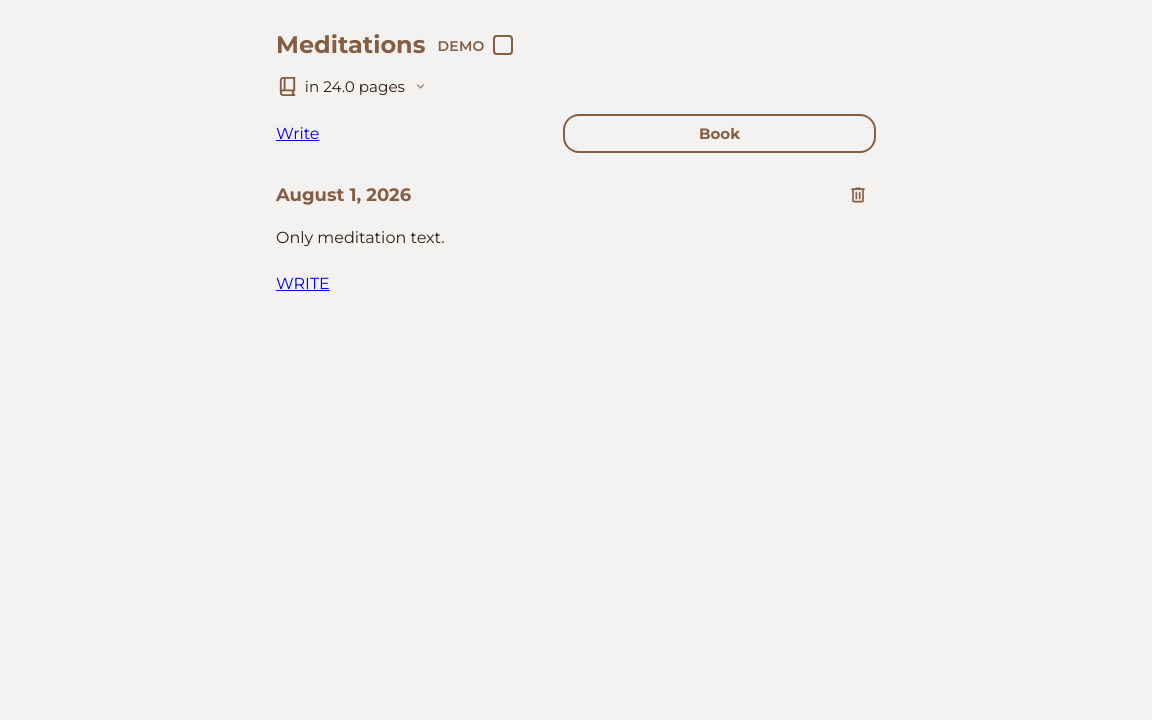
JournalMeditations remove from meditations › PATCHes an empty topics list for meditations-only entries and shows empty state
This screenshot has width=1152, height=720.
Expected: the text "Only meditation text." is shown, [276,228,445,247]
Click the button named "Remove from meditations". click: coordinates (858, 195)
box: [840,177,876,213]
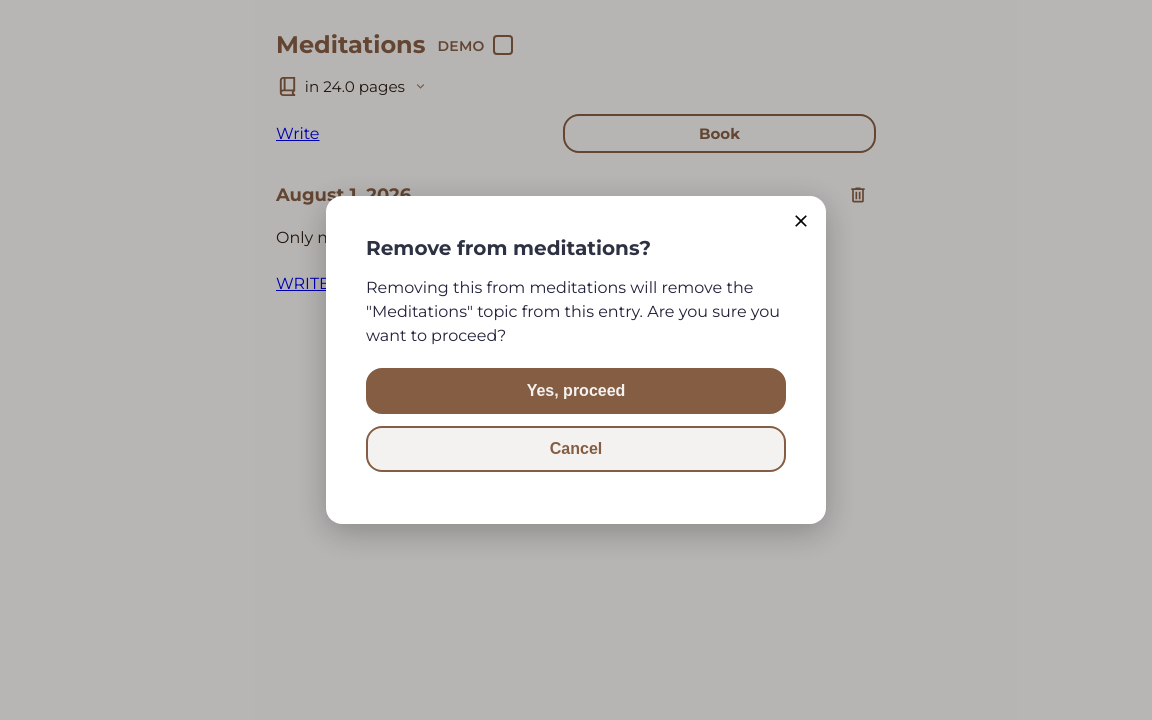
Click the button "Yes, proceed". click: coordinates (576, 391)
box: [366,368,786,414]
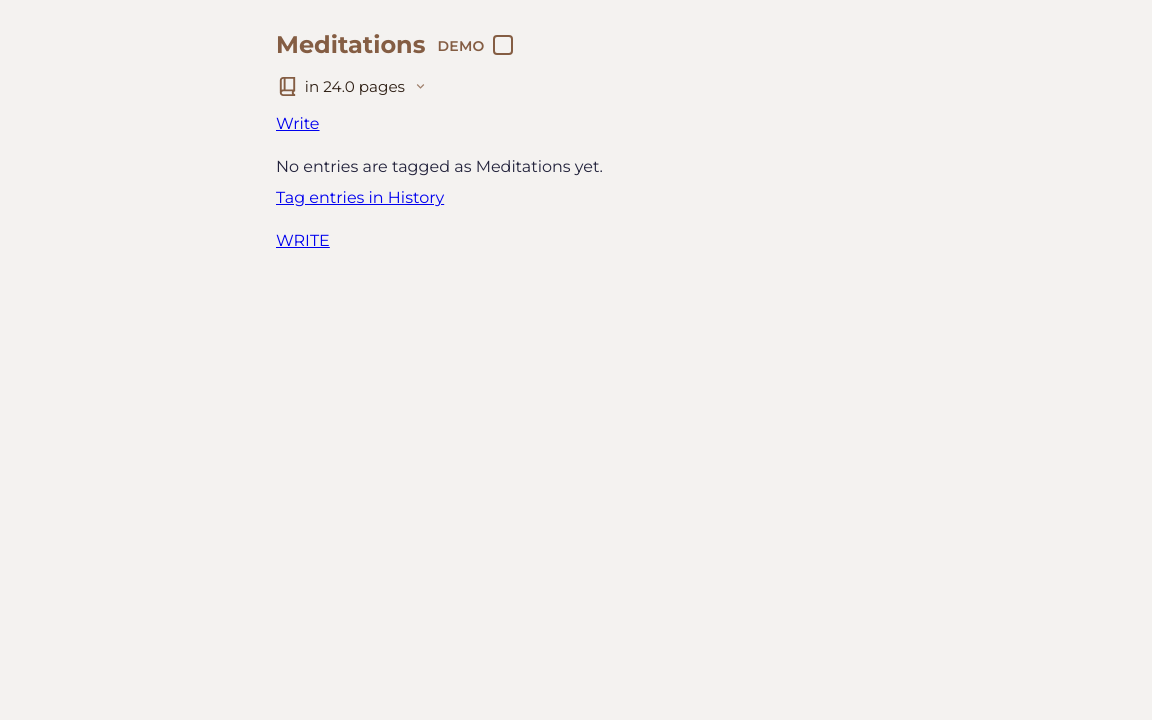
Now the text "No entries are tagged as Meditations yet." is shown, box [276,157,603,176]
Now the text "Only meditation text." is gone
